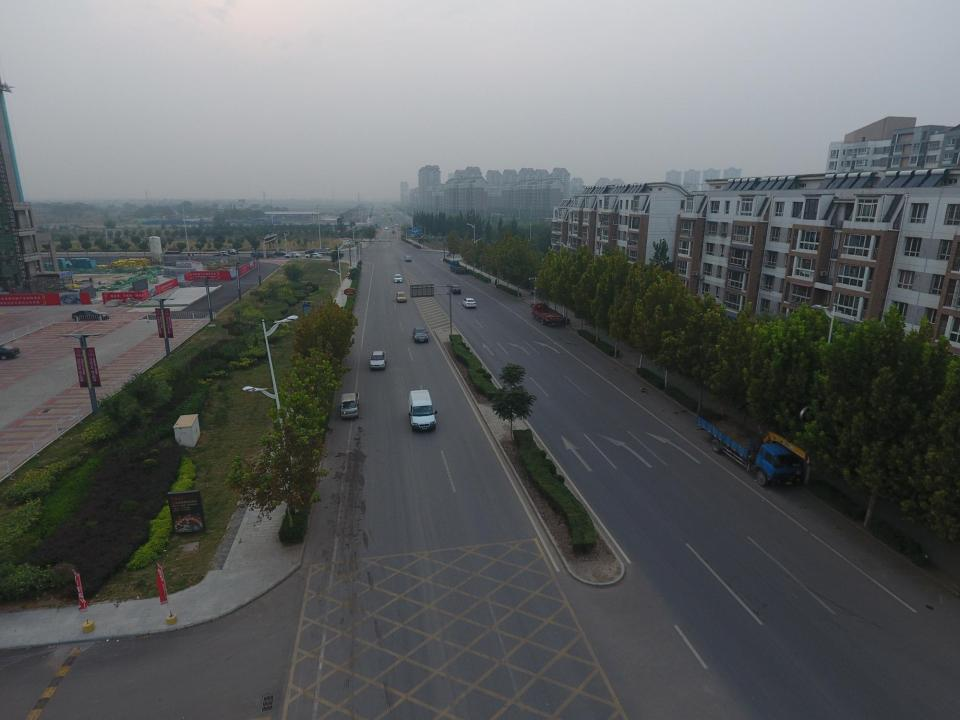car: (72, 309, 110, 321), (0, 342, 21, 361), (369, 351, 386, 370), (412, 327, 429, 343), (462, 298, 476, 308), (396, 292, 407, 302), (450, 284, 461, 294), (212, 253, 230, 259), (305, 253, 323, 259), (284, 253, 302, 258), (272, 251, 288, 256), (394, 274, 403, 282), (305, 248, 318, 253), (404, 256, 412, 262), (384, 226, 388, 229), (394, 224, 400, 226), (381, 217, 383, 219), (380, 215, 382, 217), (379, 214, 381, 215)
truck: (696, 414, 804, 487), (530, 302, 562, 325), (340, 392, 360, 419), (450, 261, 466, 273), (251, 251, 272, 258), (314, 248, 332, 255)
van: (408, 390, 437, 432), (221, 249, 237, 255), (391, 224, 394, 228), (376, 220, 380, 223), (382, 215, 384, 217)
